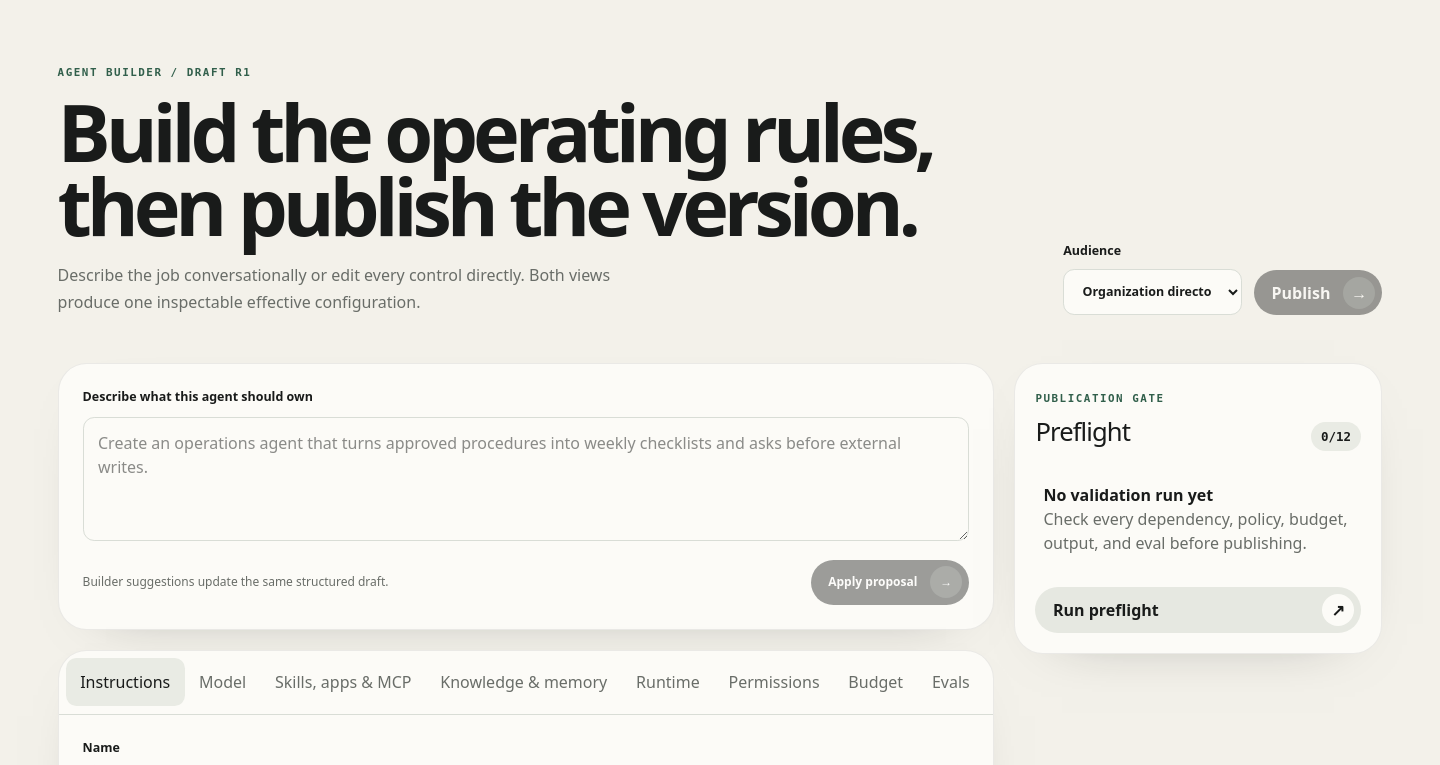
Test: AgentBuilderWorkspace › synchronizes a conversational proposal and blocks publishing until preflight
Check: the button "Publish →" is disabled, box [1254,270,1382,315]
Replace the text in the text box labelled "Describe what this agent should own" with "Coordinate weekly operations reviews." at (526,479), box [83,417,969,541]
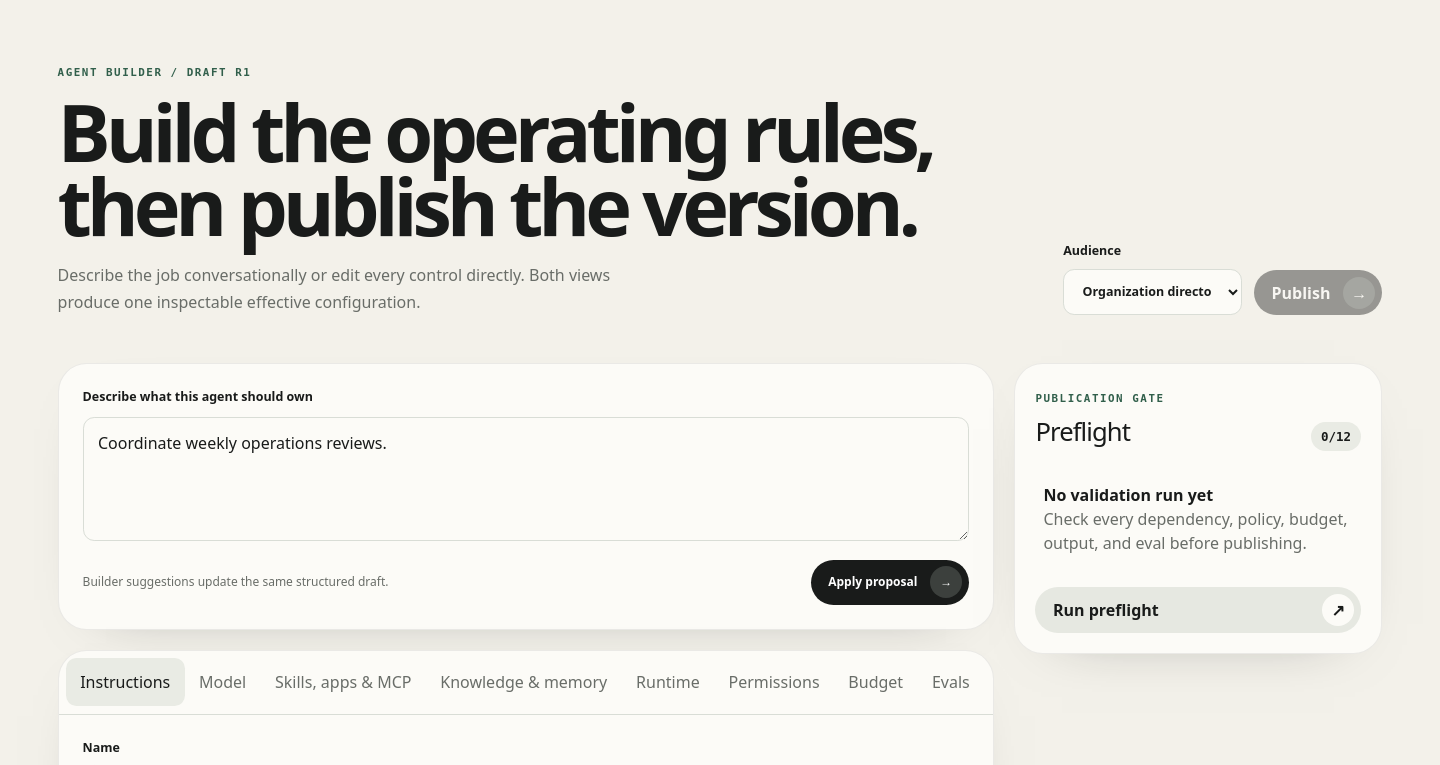
Click the button "Apply proposal →" at (890,582), box [811,560,969,605]
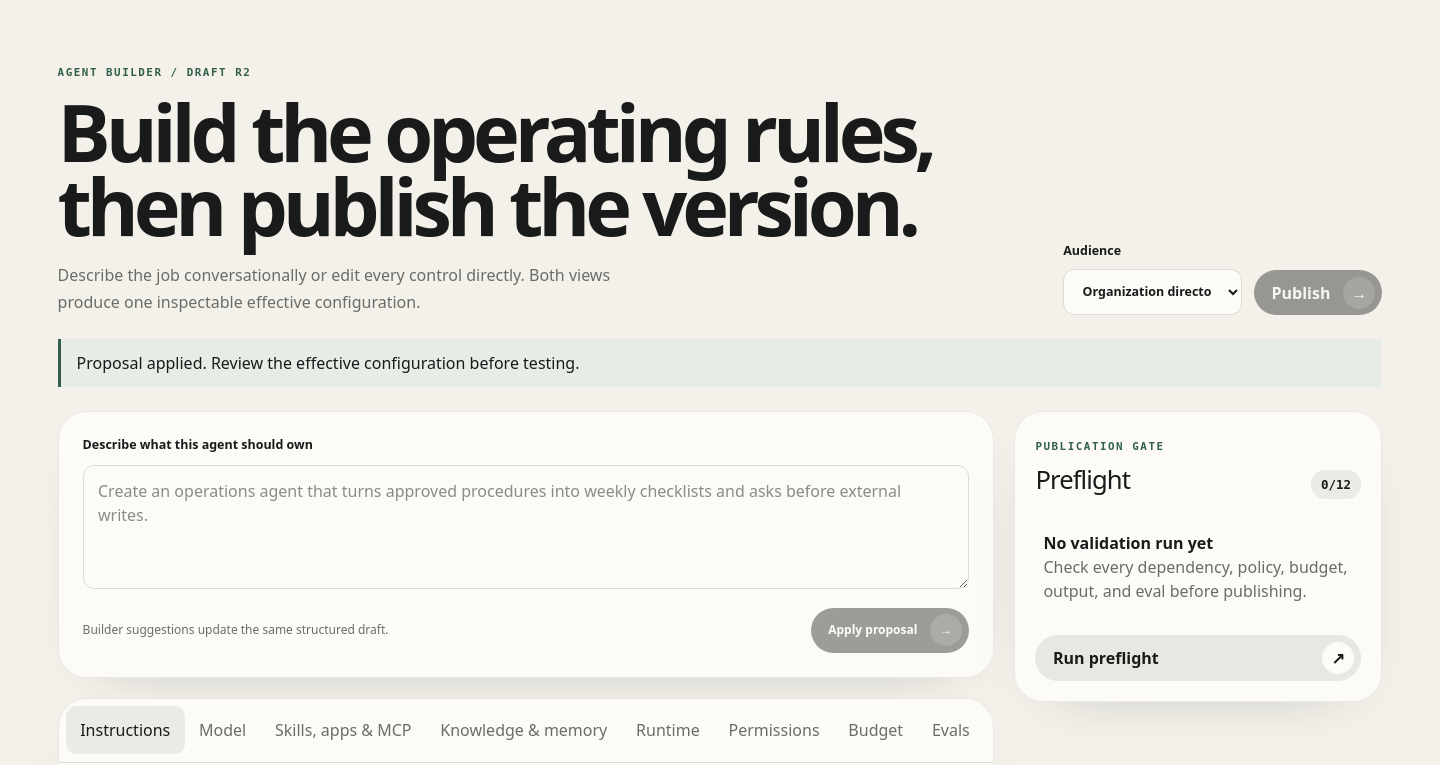
Click the button "Run preflight ↗" at (1106,658), box [1035,635,1361,681]
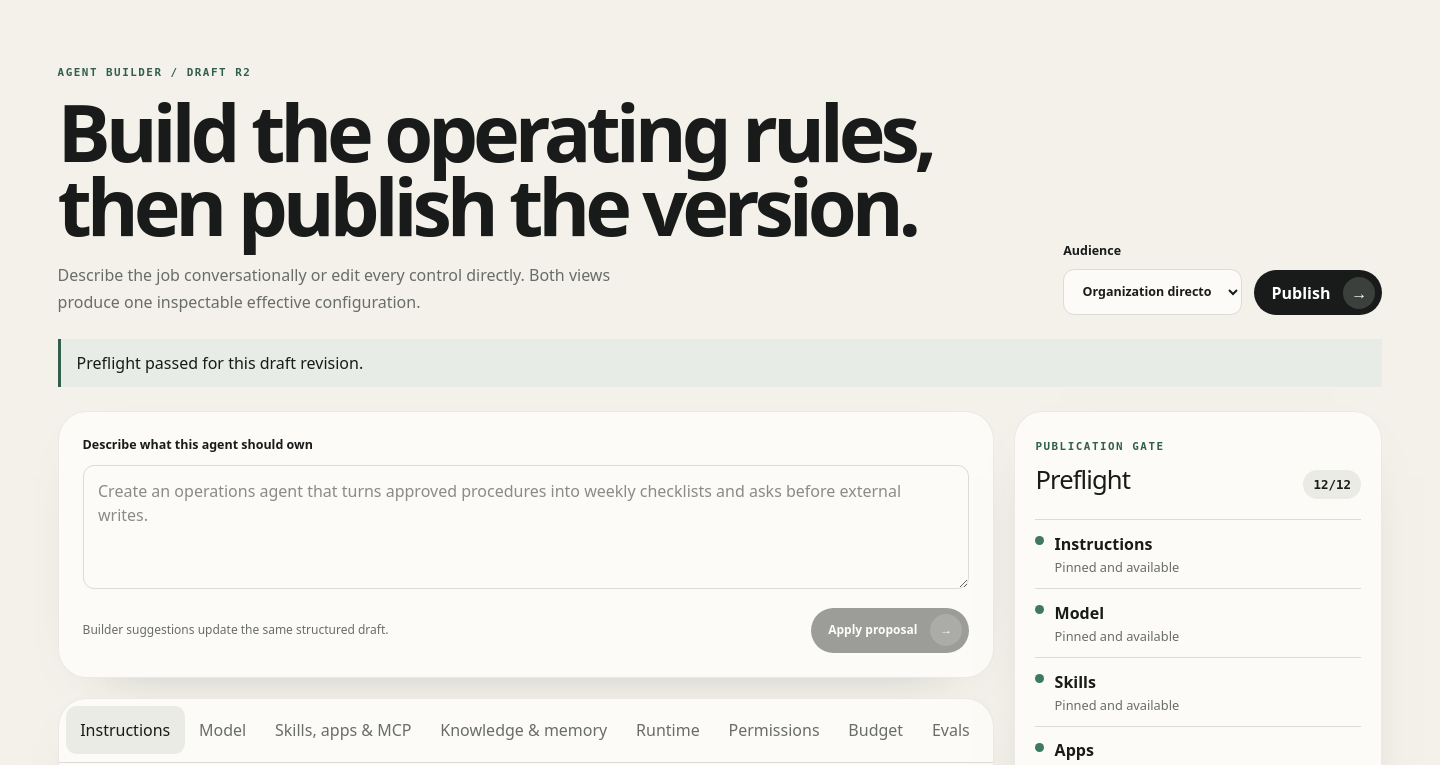
Check: the text "12/12" is shown, box [1303,470,1361,500]
Check: the button "Publish →" is enabled, box [1254,270,1382,315]
